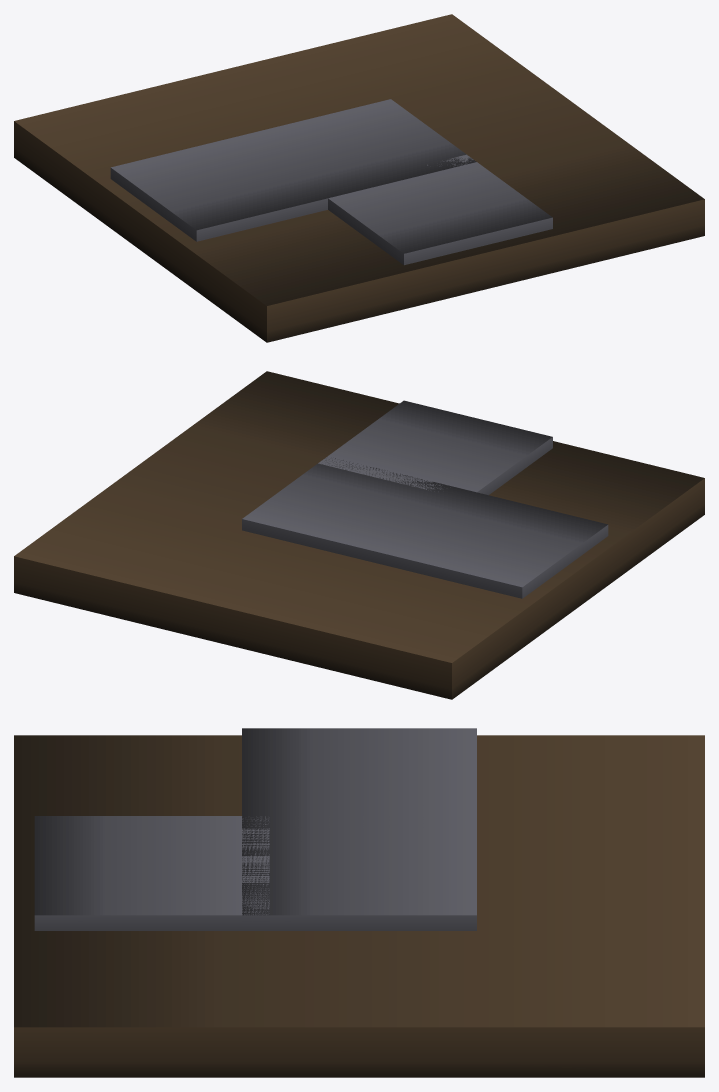
Rendered from path_corner.glb.
3 renders of one model, top to bottom at view 1: azimuth 30°, elevation 25°; view 2: azimuth 150°, elevation 25°; view 3: azimuth 270°, elevation 25°, orthographic. The views are drawn at different scales.
Visible parts, largest first — view 1: path_corner; view 2: path_corner; view 3: path_corner.
Boxes of the visible parts, left/top/right/bottom form: path_corner: left=14, top=14, right=704, bottom=342; path_corner: left=14, top=371, right=704, bottom=699; path_corner: left=14, top=728, right=704, bottom=1077.
Size of the model in its own units: 1 by 0.105 by 1.
1 material, 1 textured.
